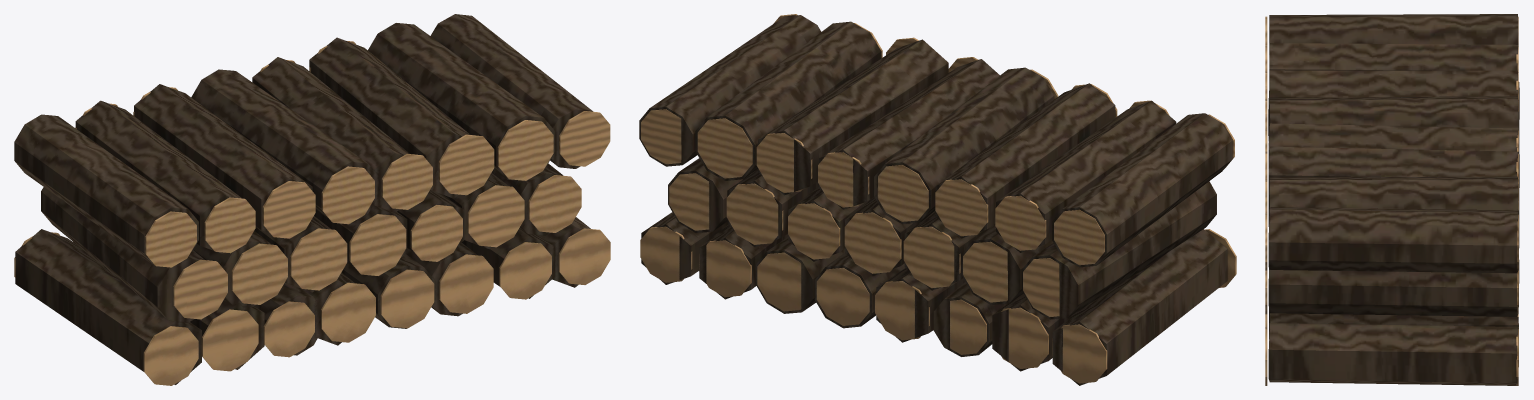
Rendered from pile-no-rack.glb.
3 views of the same model, side by side, from view 1: azimuth 30°, elevation 25°; view 2: azimuth 150°, elevation 25°; view 3: azimuth 270°, elevation 25° (orthographic). The views are drawn at different scales.
Visible parts, largest first — view 1: bark, endgrain; view 2: bark, endgrain; view 3: bark, endgrain.
Boxes of the visible parts, x1,y1,x2,y2 form: bark: (14,14,592,384); endgrain: (14,41,610,385); bark: (639,15,1232,385); endgrain: (640,14,1236,383); bark: (1268,14,1519,385); endgrain: (1265,16,1518,385).
Bounding box in the file's own units: 0.9508 × 0.357 × 0.461.
Materials: 2 (2 with a texture image).
